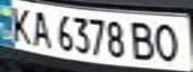3: (69, 13, 90, 55)
6: (51, 11, 75, 52)
7: (87, 16, 106, 56)
8: (106, 17, 130, 60)
A: (27, 8, 54, 47)
B: (127, 19, 160, 62)
K: (3, 3, 36, 45)
O: (151, 20, 187, 63)
